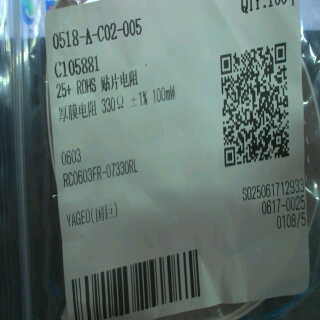330R: (98, 95, 126, 119)
